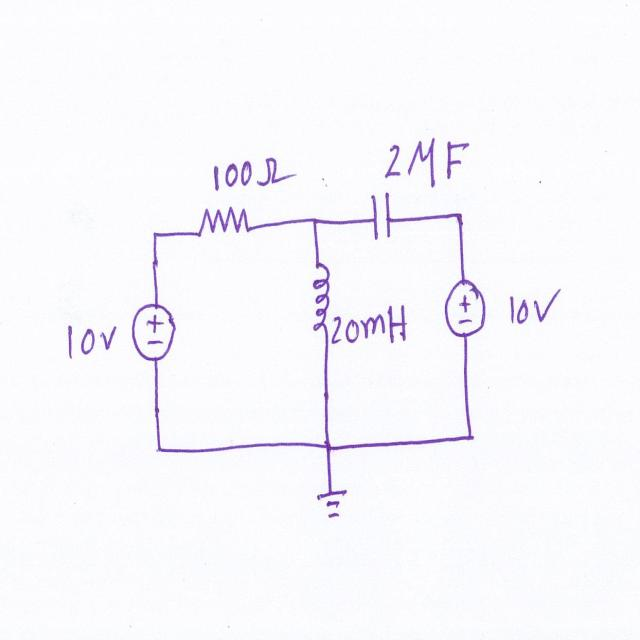capacitor: (368, 185, 396, 245)
ground: (312, 486, 352, 524)
inductor: (302, 256, 334, 336)
resistor: (192, 198, 254, 243)
voltage_source: (128, 298, 181, 366), (440, 270, 489, 342)
